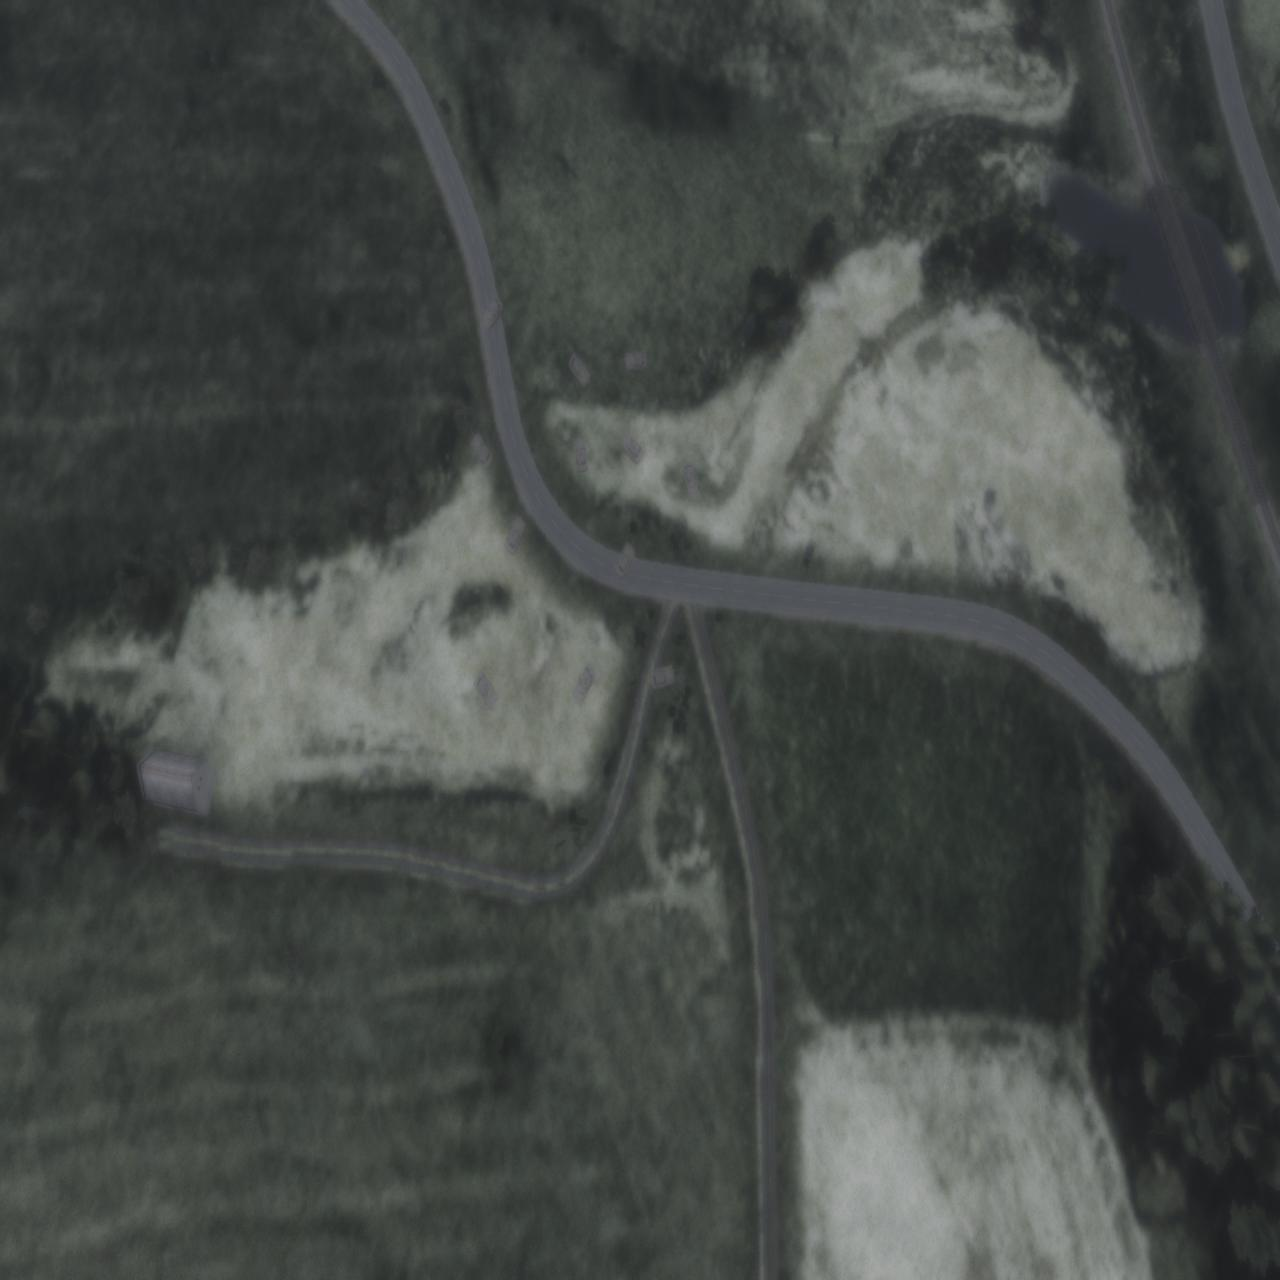MIL_Veh: (470, 427, 496, 472), (475, 672, 499, 713), (568, 349, 592, 389), (573, 665, 594, 708), (506, 515, 527, 557), (614, 540, 636, 580), (620, 431, 644, 467), (649, 665, 678, 692), (483, 297, 504, 332), (574, 435, 590, 475), (682, 458, 697, 495), (624, 352, 648, 374)
